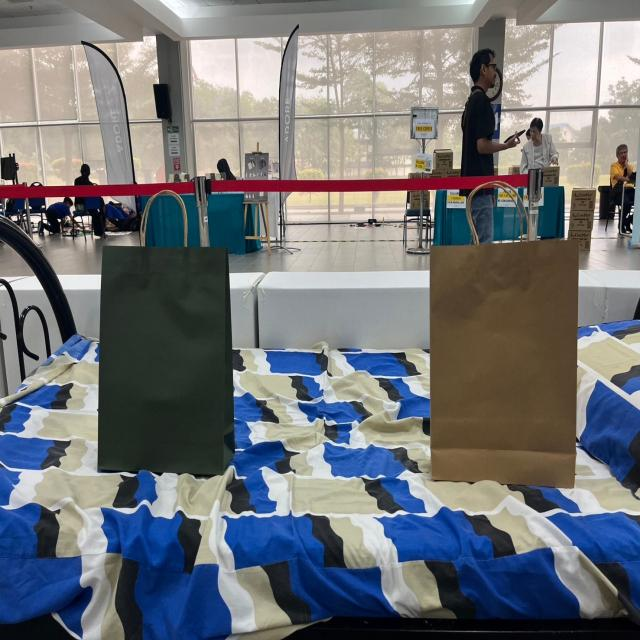bag: (434, 174, 571, 473), (109, 185, 227, 469)
